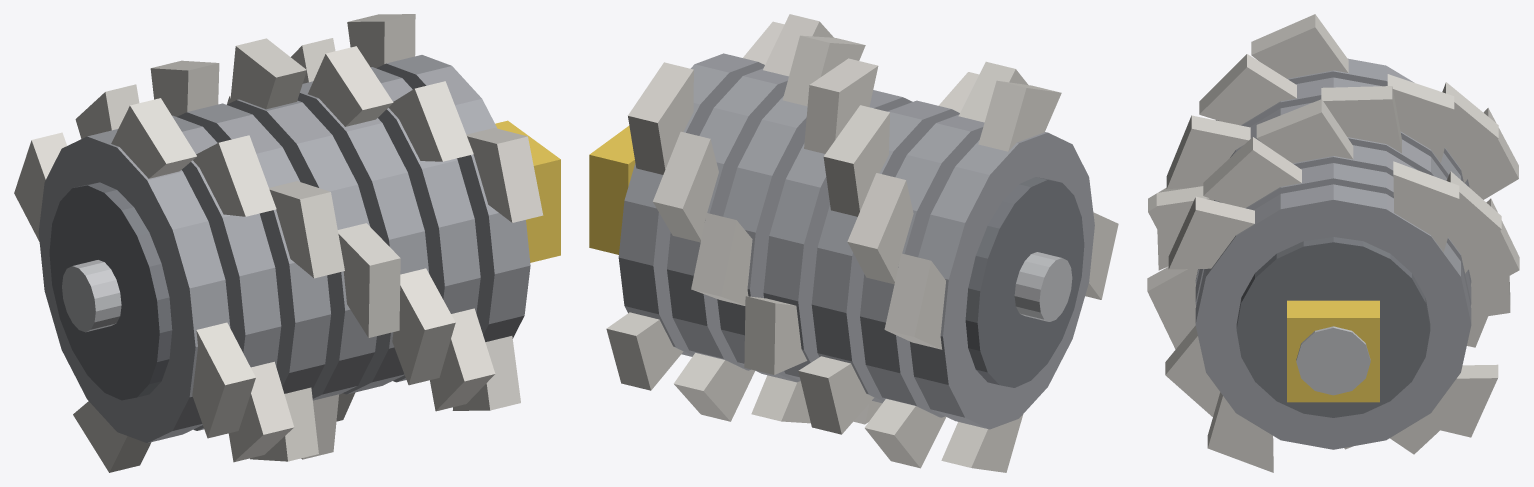
The model's file is crusher_roller.glb.
3 views of the same model, side by side, from view 1: azimuth 30°, elevation 25°; view 2: azimuth 150°, elevation 25°; view 3: azimuth 270°, elevation 25° (orthographic). The views are drawn at different scales.
Parts seen in each view (by area): view 1: CrusherRoller, CrusherBearing; view 2: CrusherRoller, CrusherBearing; view 3: CrusherRoller, CrusherBearing.
Part boxes in pixels (left/top/right/bottom): CrusherRoller: left=14, top=14, right=543, bottom=472; CrusherBearing: left=495, top=120, right=560, bottom=262; CrusherRoller: left=606, top=14, right=1118, bottom=472; CrusherBearing: left=589, top=126, right=635, bottom=254; CrusherRoller: left=1147, top=14, right=1519, bottom=472; CrusherBearing: left=1287, top=300, right=1379, bottom=402.
Bounding box in the file's own units: 2.5 × 2 × 2.
